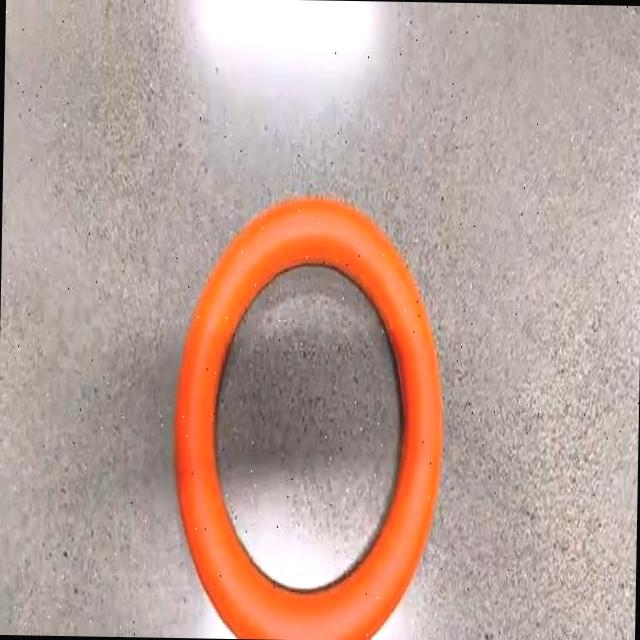note: (175, 198, 442, 638)
